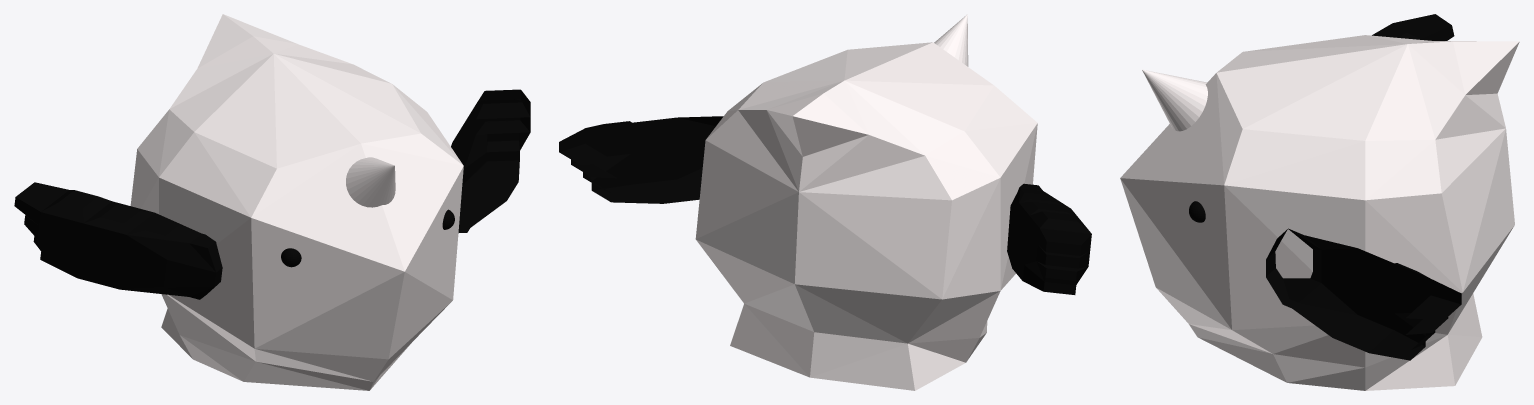
Rendered from player.obj.
3 views of the same model, side by side, from view 1: azimuth 30°, elevation 25°; view 2: azimuth 150°, elevation 25°; view 3: azimuth 270°, elevation 25° (orthographic). The views are drawn at different scales.
Visible parts, largest first — view 1: 立方体.001; view 2: 立方体.001; view 3: 立方体.001.
Boxes of the visible parts, x1,y1,x2,y2 form: 立方体.001: [14, 14, 530, 390]; 立方体.001: [559, 14, 1091, 390]; 立方体.001: [1120, 14, 1519, 390].
Bounding box in the file's own units: 1.68 × 0.8504 × 1.04.
1 material, 1 textured.
